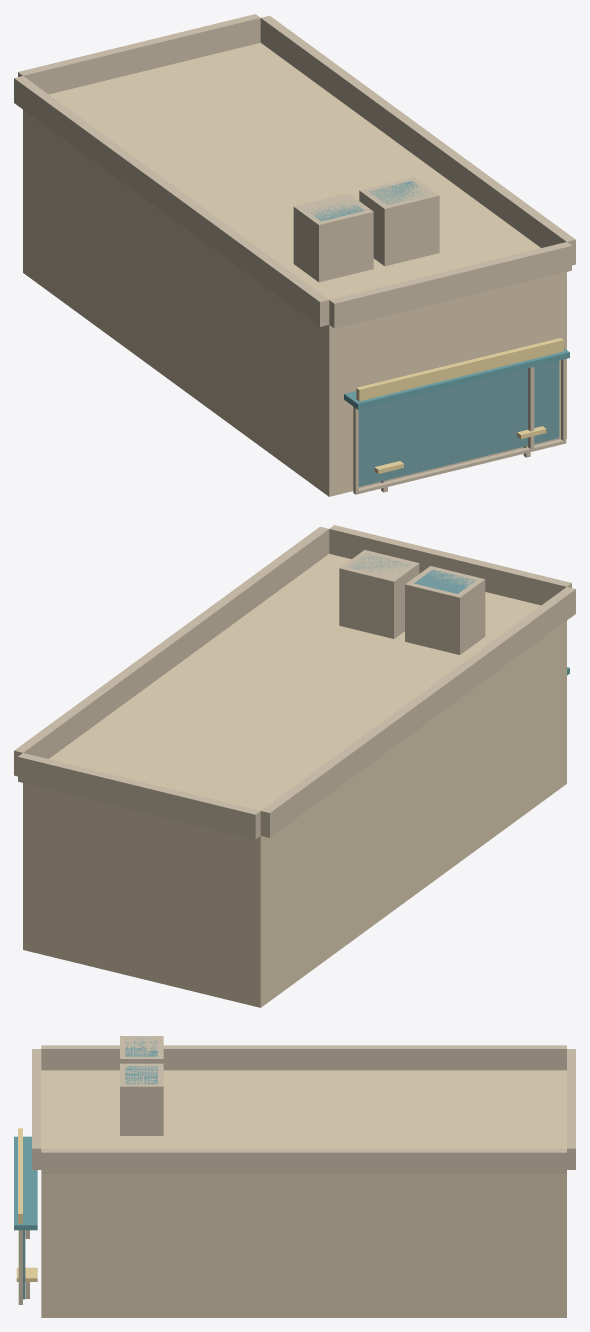
The model's file is commercial_1x2_a.glb.
The picture shows the model from 3 angles, top to bottom: view 1: azimuth 30°, elevation 25°; view 2: azimuth 150°, elevation 25°; view 3: azimuth 270°, elevation 25°; orthographic projection. The views are drawn at different scales.
Parts seen in each view (by area): view 1: commercial_1x2_a_0; view 2: commercial_1x2_a_0; view 3: commercial_1x2_a_0.
Part boxes in pixels (x1=…): commercial_1x2_a_0: x1=14, y1=14, x2=575, y2=496; commercial_1x2_a_0: x1=14, y1=525, x2=575, y2=1007; commercial_1x2_a_0: x1=14, y1=1036, x2=575, y2=1317.
Size of the model in its own units: 7 by 6 by 15.5.
